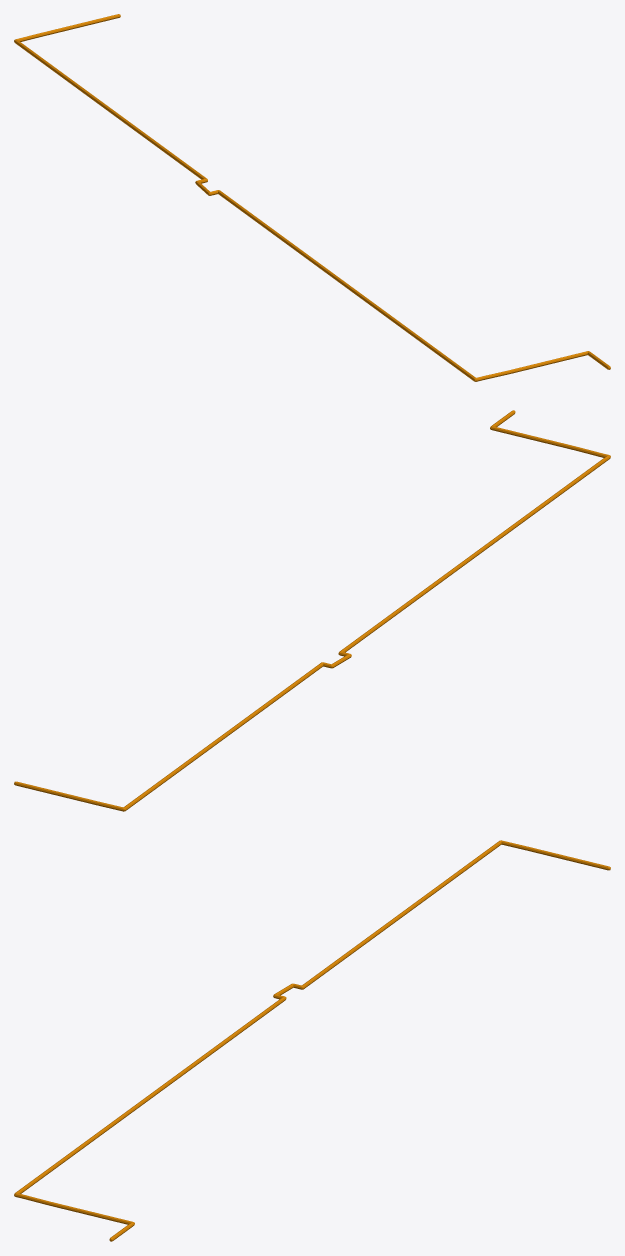
The picture shows the model from 3 angles, top to bottom: view 1: azimuth 30°, elevation 25°; view 2: azimuth 150°, elevation 25°; view 3: azimuth 330°, elevation 25°; orthographic projection. The views are drawn at different scales.
Bounding box in the file's own units: 701 × 20 × 4720.
